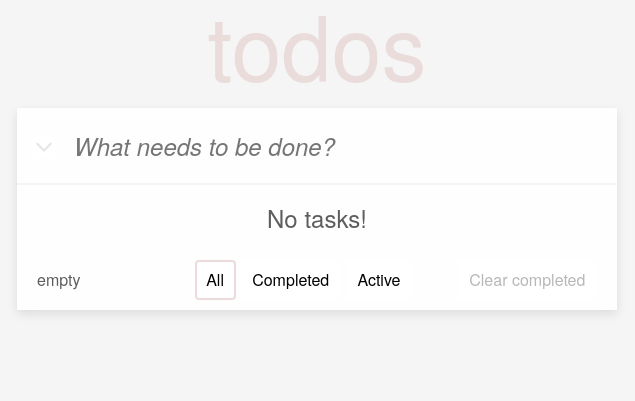
Test: Todo App functionality › Filtering Todos › filters todos based on active/completed
This screenshot has width=635, height=401.
In the field with placeholder "What needs to be done?": (334, 146) x1=66 y1=123 x2=602 y2=168, type "Active Todo"
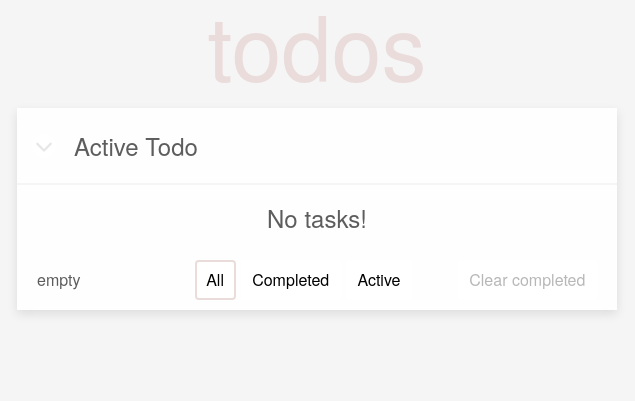
Click the button named "add todo": (44, 146) x1=32 y1=134 x2=56 y2=158
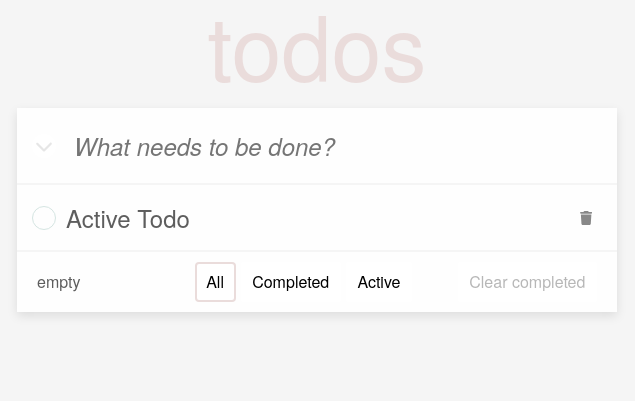
In the field with placeholder "What needs to be done?": (334, 146) x1=66 y1=123 x2=602 y2=168, type "Completed Todo"
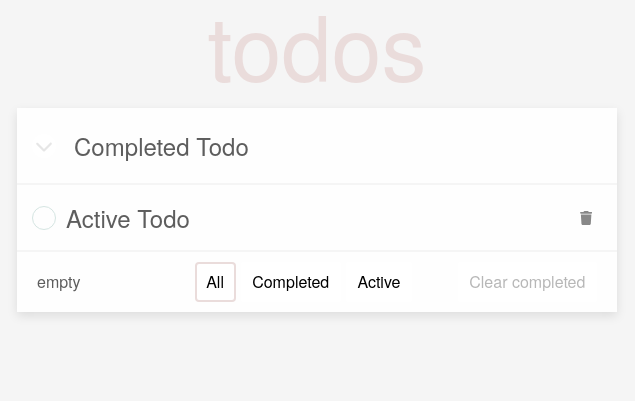
Click the button named "add todo": (44, 146) x1=32 y1=134 x2=56 y2=158
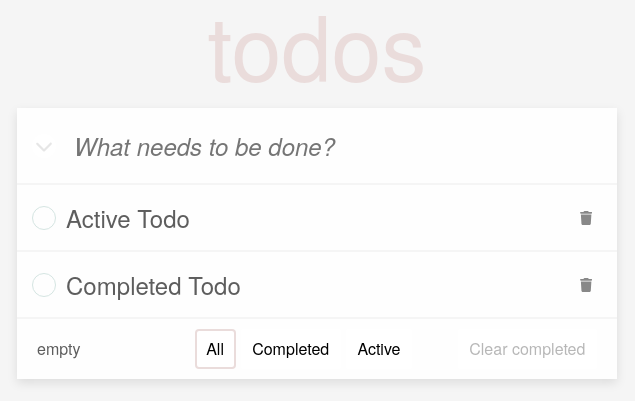
Click the element with test id "checkbox-button" next to "Completed Todo": (44, 284) x1=32 y1=272 x2=56 y2=296
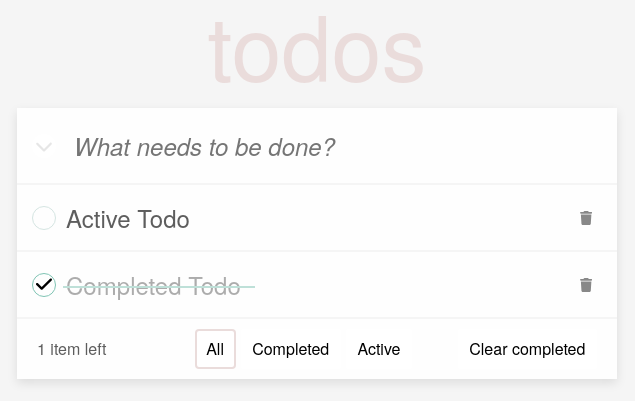
expect the text "Completed Todo" has class "done": met, box x1=66 y1=267 x2=241 y2=302
Click the button with test id "completed": (291, 349) x1=240 y1=329 x2=341 y2=369
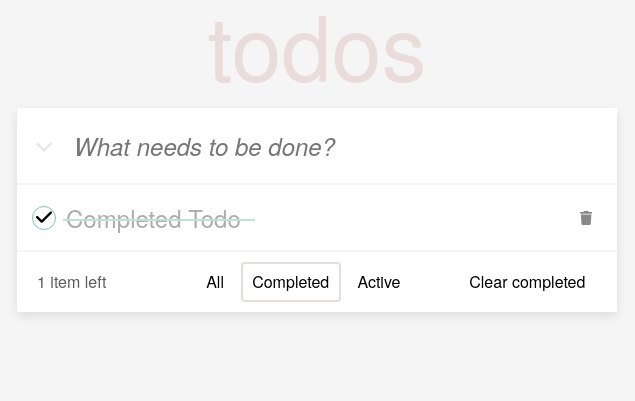
expect the text "Completed Todo" is shown: met, box x1=66 y1=200 x2=241 y2=235
expect the text "Active Todo" is gone: met
